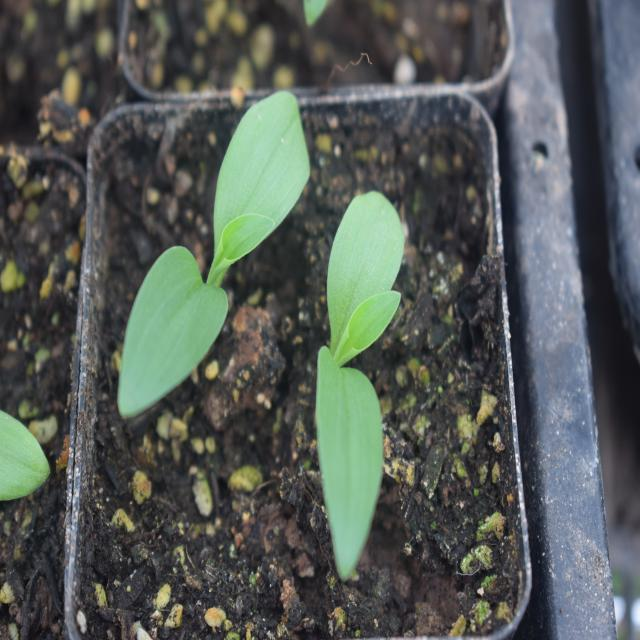Common Dayflower: (128, 87, 322, 423), (303, 171, 407, 544)
